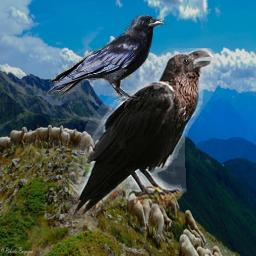Crow: (69, 48, 218, 217), (46, 12, 167, 105)
